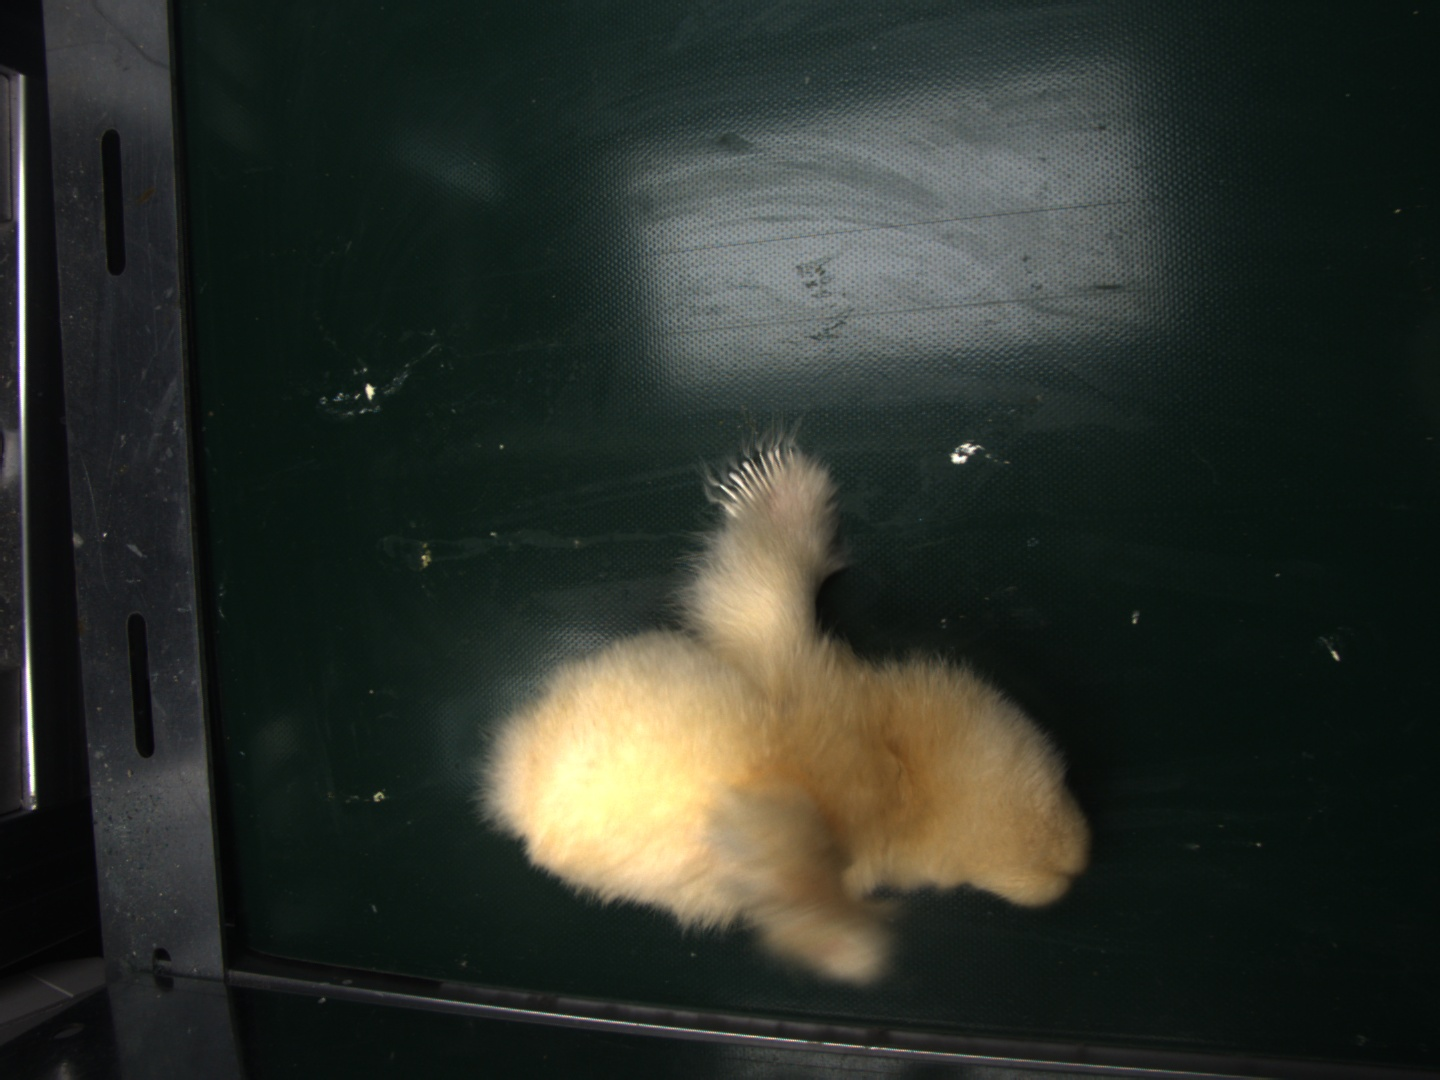male: (715, 441, 791, 518)
